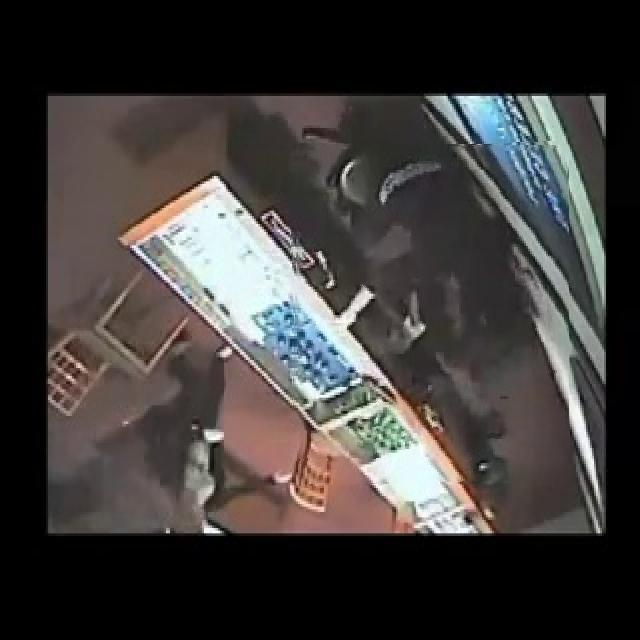Shoplifting: (291, 143, 569, 484)
